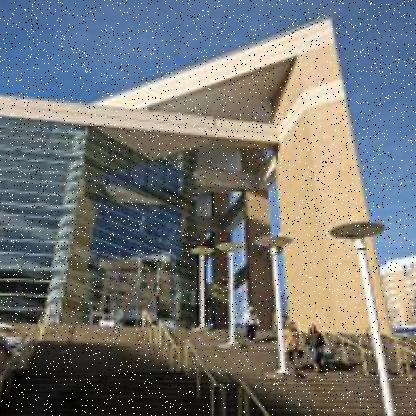stair_up: (13, 311, 405, 403)
